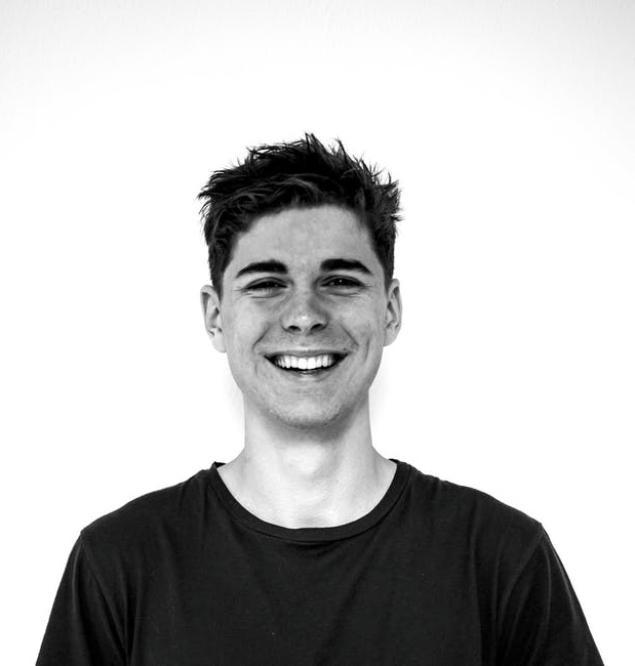face: (222, 206, 383, 423)
